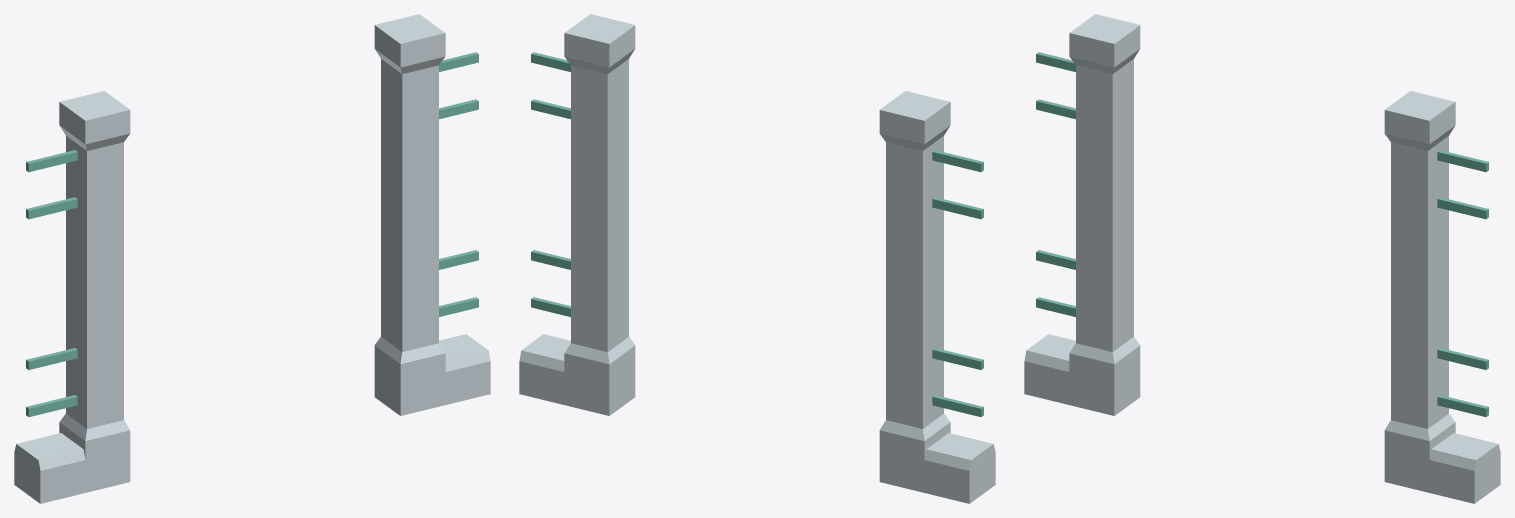
The model's file is fenceIronGate.fbx.
3 views of the same model, side by side, from view 1: azimuth 30°, elevation 25°; view 2: azimuth 150°, elevation 25°; view 3: azimuth 330°, elevation 25° (orthographic).
Visible parts, largest first — view 1: fenceIronGate; view 2: fenceIronGate; view 3: fenceIronGate.
Part boxes in pixels (x1,y1,x2,y2): fenceIronGate: (14,14,490,503); fenceIronGate: (519,14,995,503); fenceIronGate: (1024,14,1500,503).
Bounding box in the file's own units: 10 × 7.9 × 1.
